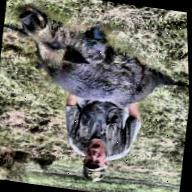boar: (7, 4, 175, 127)
